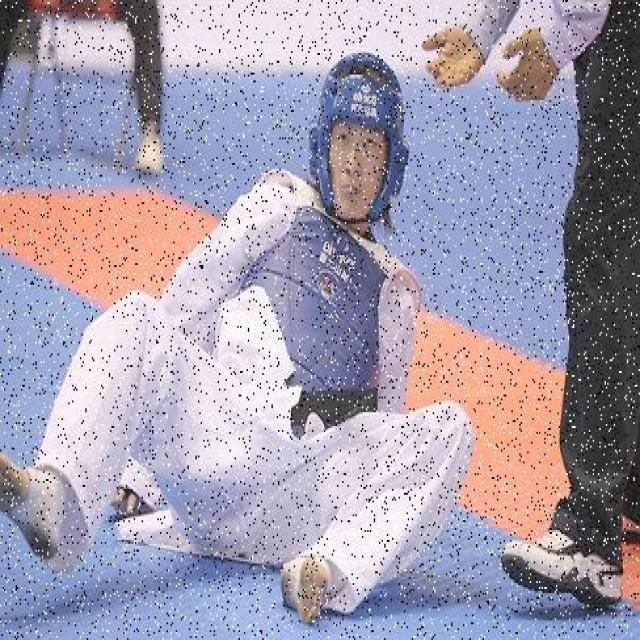fall: (35, 43, 442, 587)
